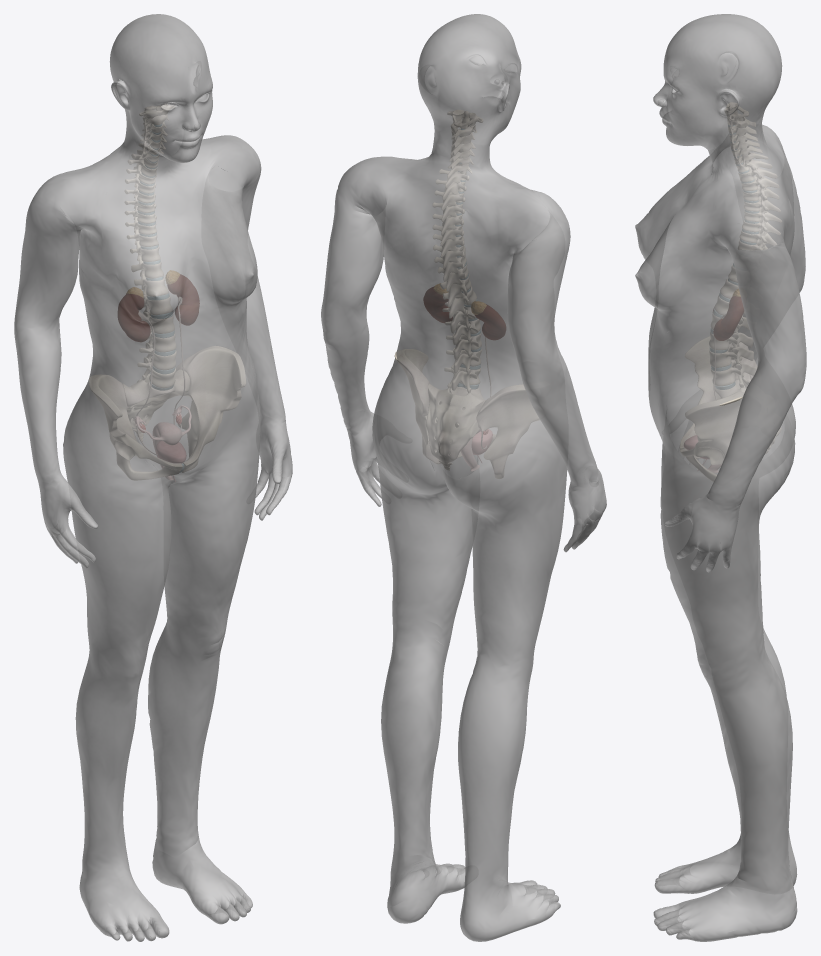
The picture shows the model from 3 angles, left to right: view 1: azimuth 30°, elevation 25°; view 2: azimuth 150°, elevation 25°; view 3: azimuth 270°, elevation 25°; orthographic projection.
Parts seen in each view (by area): view 1: Object_2, Object_18, Object_19, Object_34, Object_20, Object_15, Object_14, Object_5; view 2: Object_2, Object_20, Object_19, Object_18, Object_34, Object_14, Object_15, Object_13, Object_5, Object_6; view 3: Object_2, Object_18, Object_14, Object_19, Object_34, Object_13, Object_7, Object_8, Object_15, Object_4, Object_9, Object_5.
Boxes of the visible parts, <box> form: Object_2: <box>14,14,292,941</box>; Object_18: <box>176,346,245,472</box>; Object_19: <box>89,374,182,480</box>; Object_34: <box>118,274,199,341</box>; Object_20: <box>123,370,189,428</box>; Object_15: <box>134,274,174,333</box>; Object_14: <box>137,105,176,387</box>; Object_5: <box>128,158,163,278</box>; Object_2: <box>321,14,606,941</box>; Object_20: <box>426,383,485,463</box>; Object_19: <box>476,384,539,478</box>; Object_18: <box>394,349,461,463</box>; Object_34: <box>423,287,505,339</box>; Object_14: <box>445,111,482,391</box>; Object_15: <box>442,286,480,344</box>; Object_13: <box>444,110,481,378</box>; Object_5: <box>435,179,470,306</box>; Object_6: <box>434,252,468,291</box>; Object_2: <box>635,14,806,941</box>; Object_18: <box>680,391,744,481</box>; Object_14: <box>709,105,756,385</box>; Object_19: <box>680,336,757,458</box>; Object_34: <box>713,296,743,340</box>; Object_13: <box>709,102,755,364</box>; Object_7: <box>735,214,780,368</box>; Object_8: <box>744,196,781,222</box>; Object_15: <box>711,279,749,333</box>; Object_4: <box>736,159,778,190</box>; Object_9: <box>729,133,779,200</box>; Object_5: <box>728,165,777,282</box>.
Bounding box in the file's own units: 20.12 × 69.82 × 12.16.
14 materials, 14 textured.
